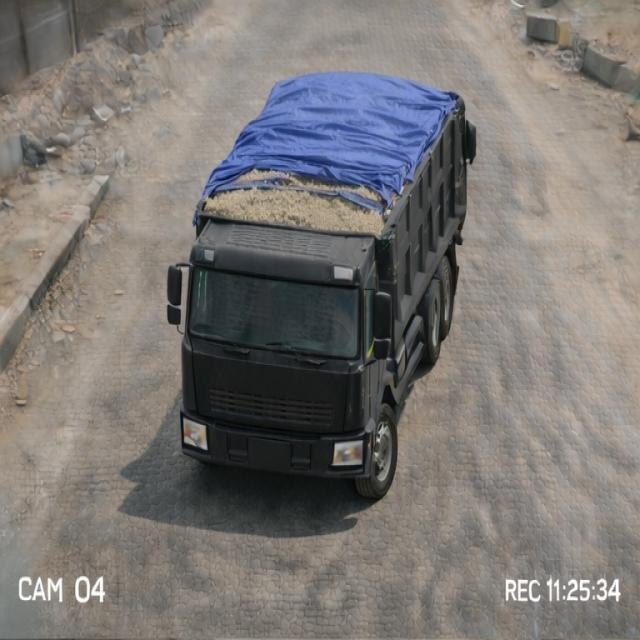Box: (193, 65, 471, 225)
Truck: (164, 58, 501, 484)
